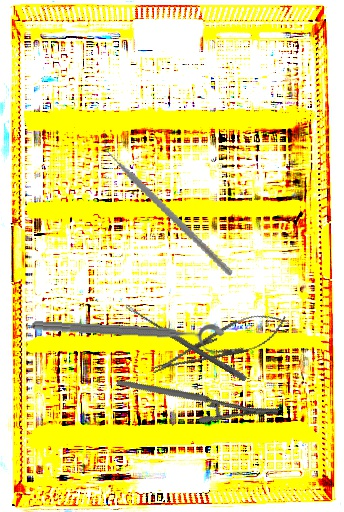Chopper: (78, 131, 258, 277)
Fixation Ring: (31, 314, 226, 357)
Needle Holder: (116, 331, 280, 462), (145, 302, 293, 387)
Surgical Spoon: (123, 303, 248, 382)
